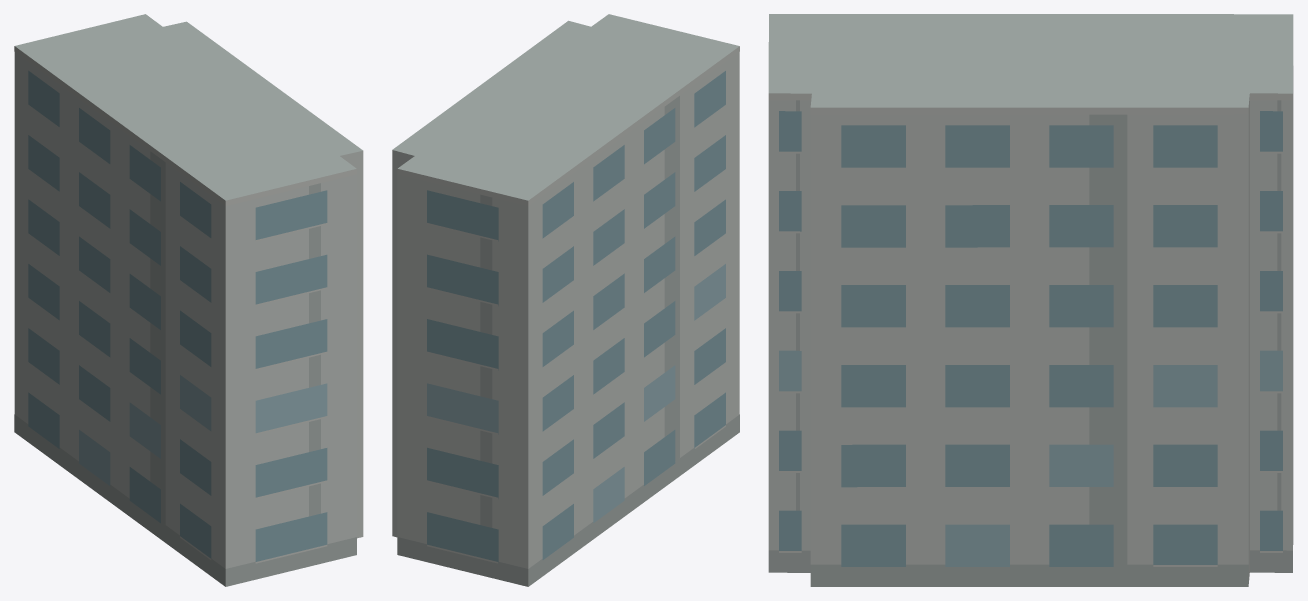
Rendered from survey-upis-32631366.glb.
3 renders of one model, left to right at view 1: azimuth 30°, elevation 25°; view 2: azimuth 150°, elevation 25°; view 3: azimuth 270°, elevation 25°, orthographic. The views are drawn at different scales.
Visible parts, largest first — view 1: survey-upis-32631366.tmp; view 2: survey-upis-32631366.tmp; view 3: survey-upis-32631366.tmp.
Part boxes in pixels (<box>): survey-upis-32631366.tmp: <box>14,14,363,586</box>; survey-upis-32631366.tmp: <box>392,14,739,586</box>; survey-upis-32631366.tmp: <box>768,14,1293,586</box>.
Bounding box in the file's own units: 7.01 × 16.7 × 16.59.
